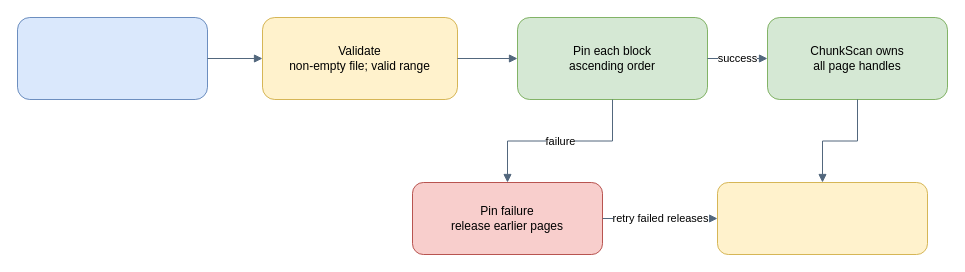
The diagram is 965 pixels wide and 272 high, and some of its shapes have lost their labels. The box of each missing label's shape, as (x1, y1, x2, y2) in pixels:
Close unpin all; retain failures: (716, 182, 928, 254)
Input file, layout, inclusive blocks: (16, 16, 208, 100)
